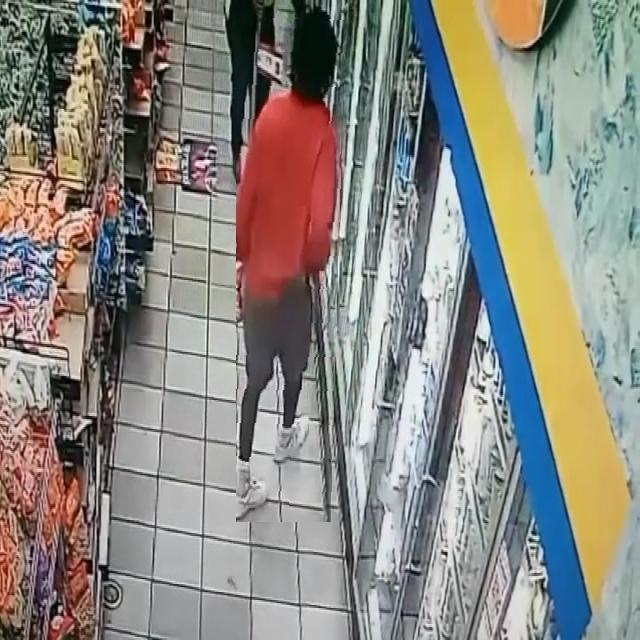Normal: (236, 0, 346, 522)
